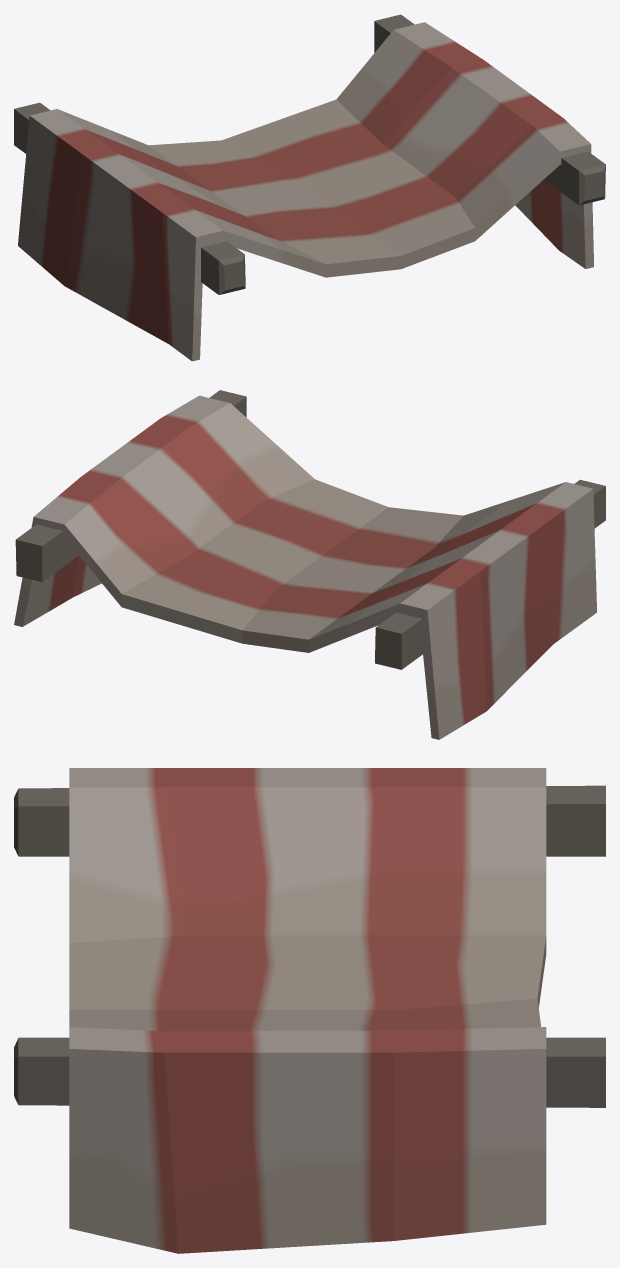
Rendered from SM_Bld_Village_ClothCover_Small_02.glb.
3 renders of one model, top to bottom at view 1: azimuth 30°, elevation 25°; view 2: azimuth 150°, elevation 25°; view 3: azimuth 270°, elevation 25°, orthographic. The views are drawn at different scales.
Visible parts, largest first — view 1: SM_Bld_Village_ClothCover_Small_02; view 2: SM_Bld_Village_ClothCover_Small_02; view 3: SM_Bld_Village_ClothCover_Small_02.
Boxes of the visible parts, box(x1,y1,x2,y2) form: SM_Bld_Village_ClothCover_Small_02: box(14, 14, 605, 361); SM_Bld_Village_ClothCover_Small_02: box(14, 390, 605, 739); SM_Bld_Village_ClothCover_Small_02: box(14, 768, 605, 1253).
Bounding box in the file's own units: 2.43 × 0.7522 × 2.03.
1 material, 1 textured.
